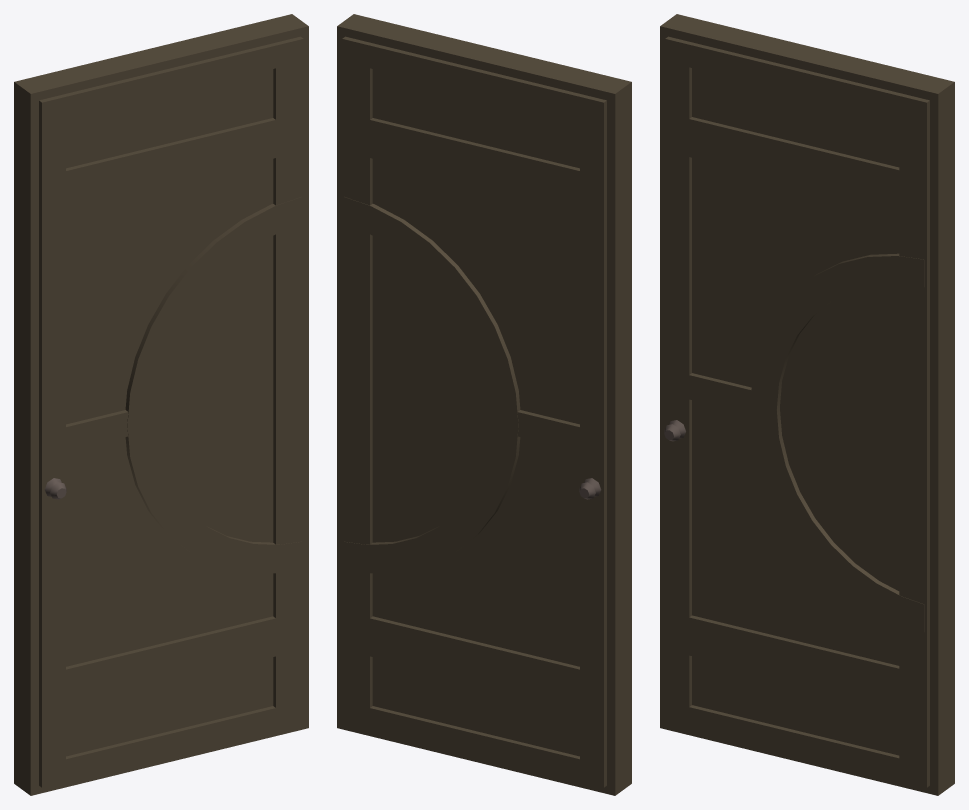
Rendered from Door-ihXwSN12P1.glb.
The picture shows the model from 3 angles, left to right: view 1: azimuth 30°, elevation 25°; view 2: azimuth 150°, elevation 25°; view 3: azimuth 330°, elevation 25°; orthographic projection.
Visible parts, largest first — view 1: Door-ihXwSN12P1; view 2: Door-ihXwSN12P1; view 3: Door-ihXwSN12P1.
Boxes of the visible parts, bbox=[...] form: Door-ihXwSN12P1: bbox=[14, 14, 308, 795]; Door-ihXwSN12P1: bbox=[337, 14, 631, 795]; Door-ihXwSN12P1: bbox=[660, 14, 954, 795].
Size of the model in its own units: 0.5207 by 1.26 by 0.1248.
